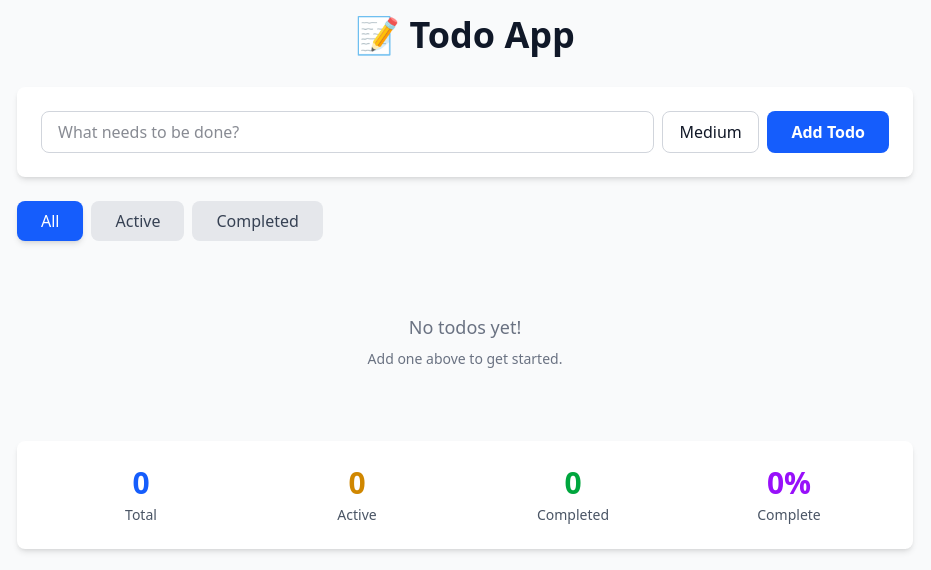
Test: Todo App - E2E Tests › First-Time User Experience › allows user to add todo with priority
This screenshot has width=931, height=570.
# Select high priority from dropdown
Select "High" in the dropdown with test id "priority-select". click: (712, 132)
box: [663, 111, 760, 153]
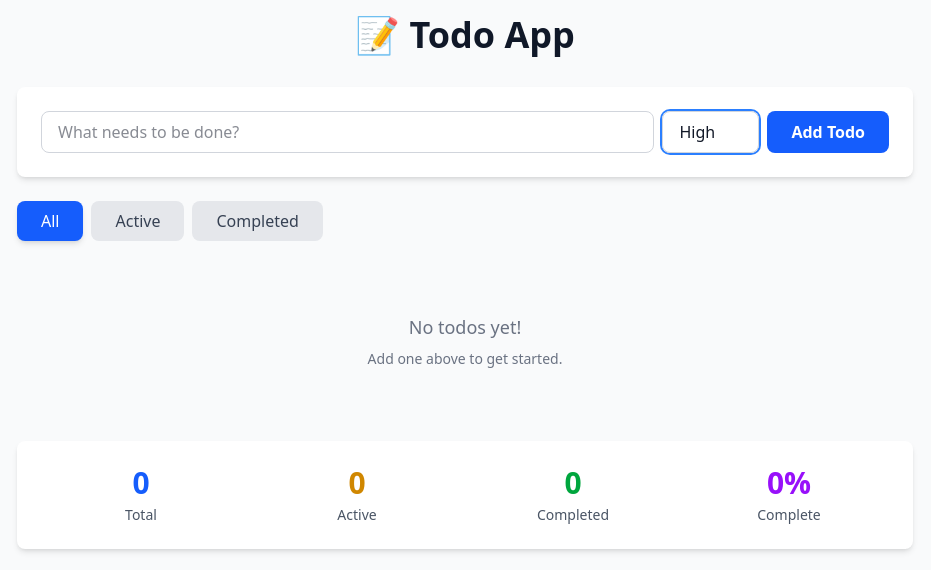
Type "Urgent task" into the field with placeholder "What needs to be done?". click: (348, 132)
box: [58, 120, 638, 144]
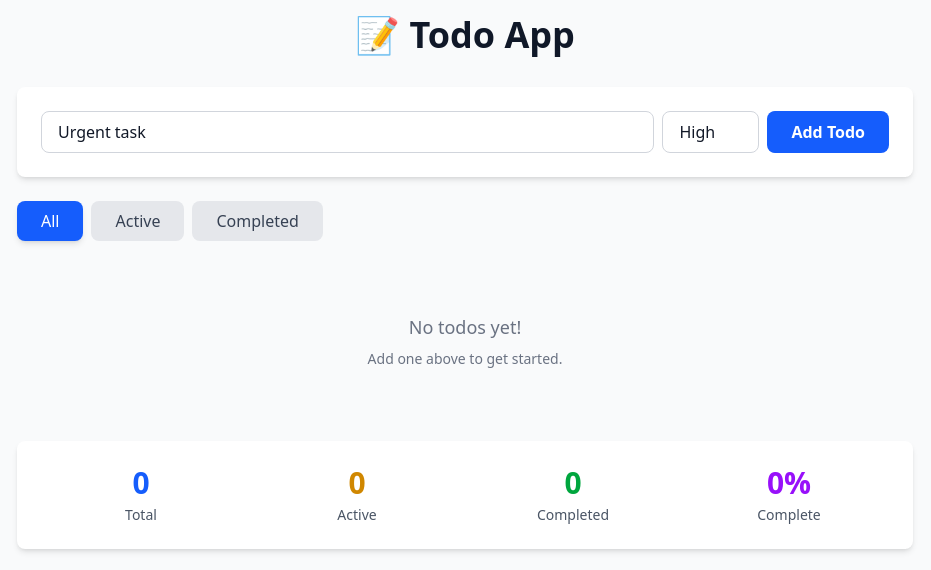
Click the button "Add Todo". click: (829, 132)
box: [768, 111, 890, 153]
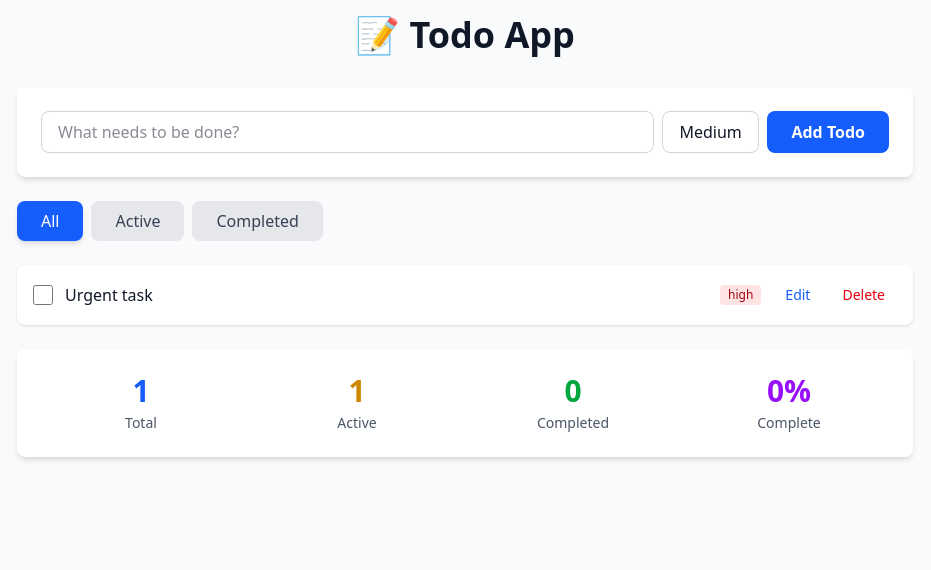
Now the text "high" is shown, box [720, 285, 761, 305]
Now the text with test id "todo-priority" reads "high", box [728, 286, 753, 303]
